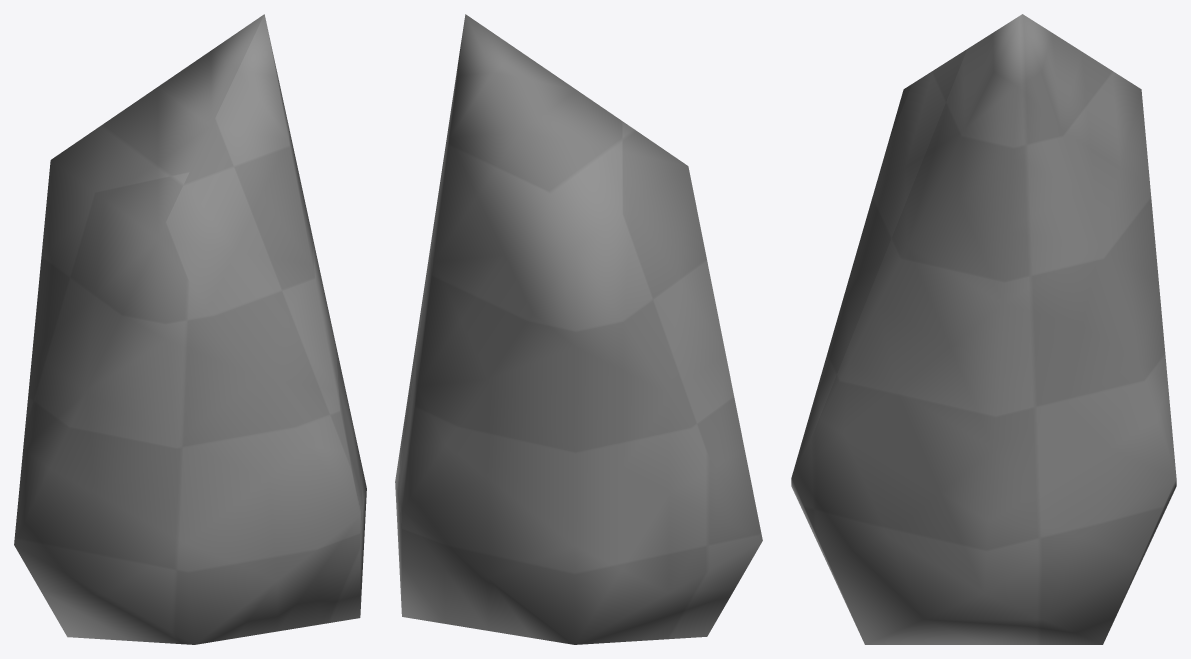
Rendered from rock2_224.FBX.
3 renders of one model, left to right at view 1: azimuth 30°, elevation 25°; view 2: azimuth 150°, elevation 25°; view 3: azimuth 270°, elevation 25°, orthographic. The views are drawn at different scales.
Parts seen in each view (by area): view 1: rock2; view 2: rock2; view 3: rock2.
Boxes of the visible parts, x1,y1,x2,y2 form: rock2: (14, 14, 366, 644); rock2: (395, 14, 762, 644); rock2: (791, 14, 1176, 644).
Bounding box in the file's own units: 121 × 104 × 183.
